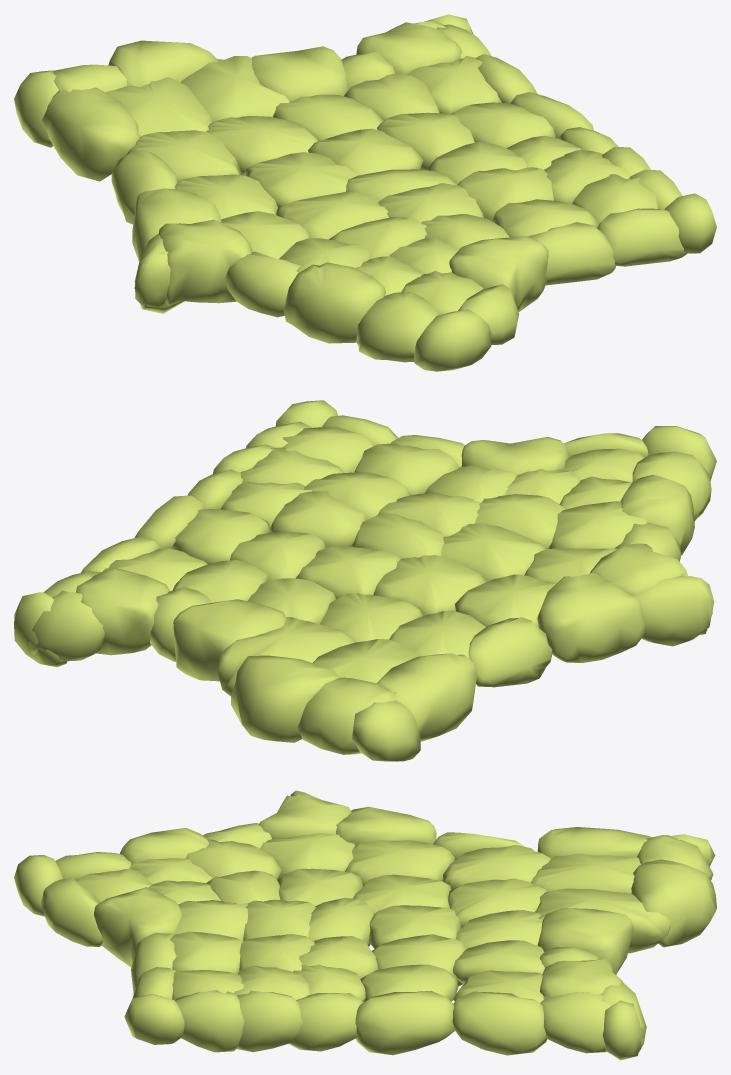
The model's file is Islands2.002_fog.fbx.
3 renders of one model, top to bottom at view 1: azimuth 30°, elevation 25°; view 2: azimuth 150°, elevation 25°; view 3: azimuth 270°, elevation 25°, orthographic. The views are drawn at different scales.
Visible parts, largest first — view 1: Island2.002_fog_cell.032, Island2.002_fog_cell.003, Island2.002_fog_cell.019, Island2.002_fog_cell.043, Island2.002_fog_cell.054, Island2.002_fog_cell, Island2.002_fog_cell.016, Island2.002_fog_cell.006, Island2.002_fog_cell.026, Island2.002_fog_cell.055, Island2.002_fog_cell.004, Island2.002_fog_cell.039 (+42 smaller); view 2: Island2.002_fog_cell.056, Island2.002_fog_cell.048, Island2.002_fog_cell.032, Island2.002_fog_cell.016, Island2.002_fog_cell.053, Island2.002_fog_cell.033, Island2.002_fog_cell.027, Island2.002_fog_cell.026, Island2.002_fog_cell.029, Island2.002_fog_cell.054, Island2.002_fog_cell.038, Island2.002_fog_cell.034 (+44 smaller); view 3: Island2.002_fog_cell.012, Island2.002_fog_cell.048, Island2.002_fog_cell.017, Island2.002_fog_cell.043, Island2.002_fog_cell.016, Island2.002_fog_cell.018, Island2.002_fog_cell.054, Island2.002_fog_cell.055, Island2.002_fog_cell.036, Island2.002_fog_cell.013, Island2.002_fog_cell.014, Island2.002_fog_cell.049 (+43 smaller).
Part boxes in pixels (box(x1,y1,x2,y2)): Island2.002_fog_cell.032: box(41, 87, 139, 181); Island2.002_fog_cell.003: box(283, 262, 385, 343); Island2.002_fog_cell.019: box(159, 219, 252, 306); Island2.002_fog_cell.043: box(449, 236, 548, 311); Island2.002_fog_cell.054: box(180, 56, 289, 122); Island2.002_fog_cell: box(356, 292, 438, 362); Island2.002_fog_cell.016: box(251, 46, 348, 100); Island2.002_fog_cell.006: box(597, 208, 687, 266); Island2.002_fog_cell.026: box(243, 152, 358, 207); Island2.002_fog_cell.055: box(106, 77, 211, 136); Island2.002_fog_cell.004: box(206, 116, 319, 175); Island2.002_fog_cell.039: box(527, 222, 616, 285); Island2.002_fog_cell.056: box(537, 572, 645, 662); Island2.002_fog_cell.048: box(231, 655, 341, 742); Island2.002_fog_cell.032: box(377, 653, 476, 741); Island2.002_fog_cell.016: box(173, 599, 286, 681); Island2.002_fog_cell.053: box(76, 567, 169, 655); Island2.002_fog_cell.033: box(468, 617, 552, 687); Island2.002_fog_cell.027: box(297, 677, 397, 754); Island2.002_fog_cell.026: box(373, 555, 486, 615); Island2.002_fog_cell.029: box(634, 575, 714, 646); Island2.002_fog_cell.054: box(217, 617, 356, 696); Island2.002_fog_cell.038: box(441, 523, 545, 581); Island2.002_fog_cell.034: box(28, 590, 104, 661); Island2.002_fog_cell.012: box(355, 991, 455, 1055); Island2.002_fog_cell.048: box(631, 859, 716, 947); Island2.002_fog_cell.017: box(452, 991, 547, 1055); Island2.002_fog_cell.043: box(94, 887, 181, 967); Island2.002_fog_cell.016: box(537, 908, 633, 975); Island2.002_fog_cell.018: box(345, 840, 454, 886); Island2.002_fog_cell.054: box(535, 888, 670, 953); Island2.002_fog_cell.055: box(531, 853, 640, 893); Island2.002_fog_cell.036: box(540, 992, 612, 1053); Island2.002_fog_cell.013: box(175, 990, 244, 1052); Island2.002_fog_cell.014: box(236, 990, 302, 1052); Island2.002_fog_cell.049: box(288, 993, 363, 1051).
Bounding box in the file's own units: 72.85 × 10.42 × 93.95.
